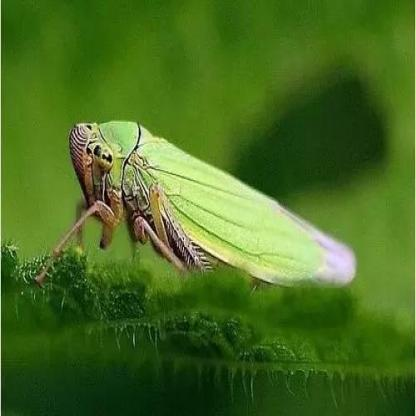Green-Leafhopper: (42, 118, 361, 299)
